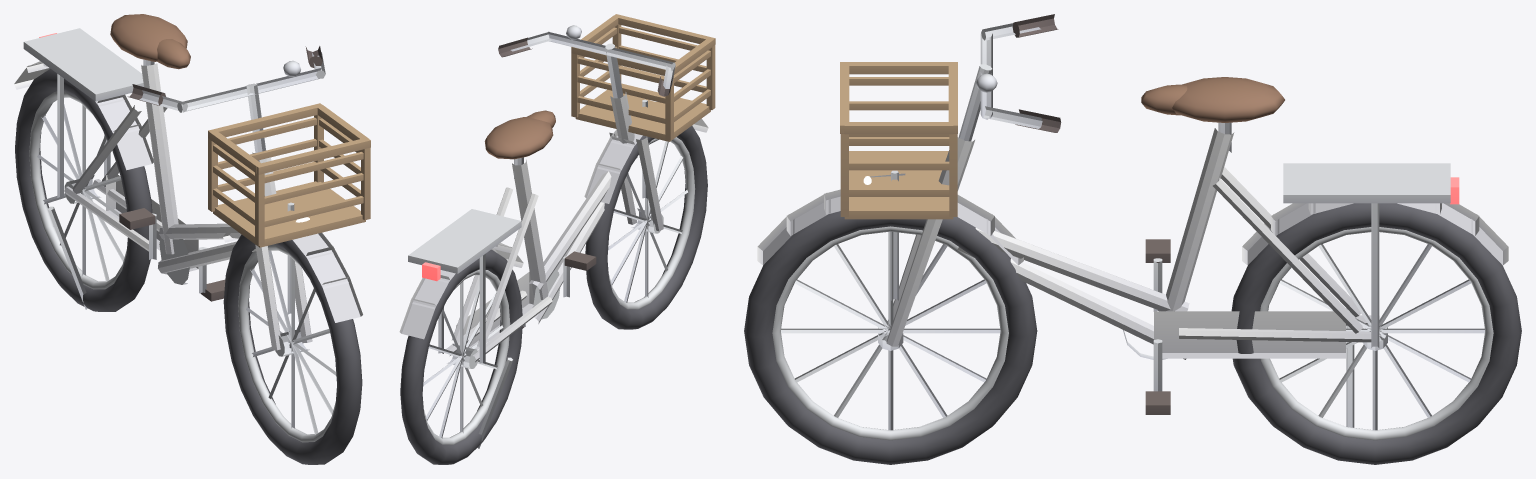
Rendered from anime_bike.glb.
3 views of the same model, side by side, from view 1: azimuth 30°, elevation 25°; view 2: azimuth 150°, elevation 25°; view 3: azimuth 270°, elevation 25° (orthographic). The views are drawn at different scales.
Visible parts, largest first — view 1: anime_bike; view 2: anime_bike; view 3: anime_bike.
Boxes of the visible parts, x1=… form: anime_bike: x1=14, y1=14, x2=370, y2=464; anime_bike: x1=399, y1=14, x2=715, y2=464; anime_bike: x1=744, y1=14, x2=1521, y2=464.
Bounding box in the file's own units: 0.6239 × 1.09 × 1.86.
